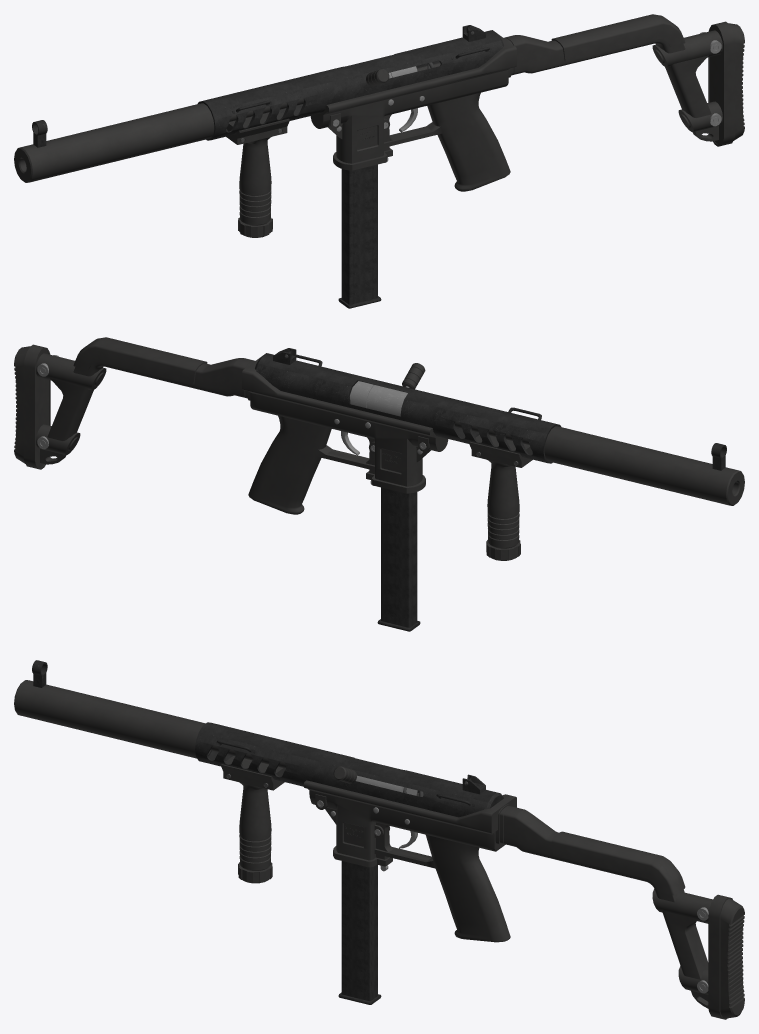
File: tec9.glb
3 renders of one model, top to bottom at view 1: azimuth 30°, elevation 25°; view 2: azimuth 150°, elevation 25°; view 3: azimuth 330°, elevation 25°, orthographic.
Visible parts, largest first — view 1: Cylinder_1, Cube.005_7, Cube.001_3, Cylinder.010_5, Cylinder.011_6; view 2: Cylinder_1, Cube.005_7, Cube.001_3, Cylinder.010_5, Cylinder.011_6; view 3: Cylinder_1, Cube.005_7, Cube.001_3, Cylinder.010_5, Cylinder.011_6.
Boxes of the visible parts, box(x1,y1,x2,y2) form: Cylinder_1: box(14, 25, 516, 191); Cube.005_7: box(504, 14, 744, 146); Cube.001_3: box(338, 164, 381, 308); Cylinder.010_5: box(226, 112, 289, 237); Cylinder.011_6: box(366, 66, 417, 86); Cylinder_1: box(242, 348, 744, 514); Cube.005_7: box(14, 337, 254, 469); Cube.001_3: box(377, 487, 420, 631); Cylinder.010_5: box(469, 435, 532, 560); Cylinder.011_6: box(350, 363, 425, 416); Cylinder_1: box(14, 660, 516, 942); Cube.005_7: box(495, 804, 744, 1019); Cube.001_3: box(338, 861, 381, 1004); Cylinder.010_5: box(221, 756, 285, 883); Cylinder.011_6: box(333, 766, 417, 795).
Size of the model in its own units: 23.13 by 7.94 by 2.02.
6 materials, 4 textured.
